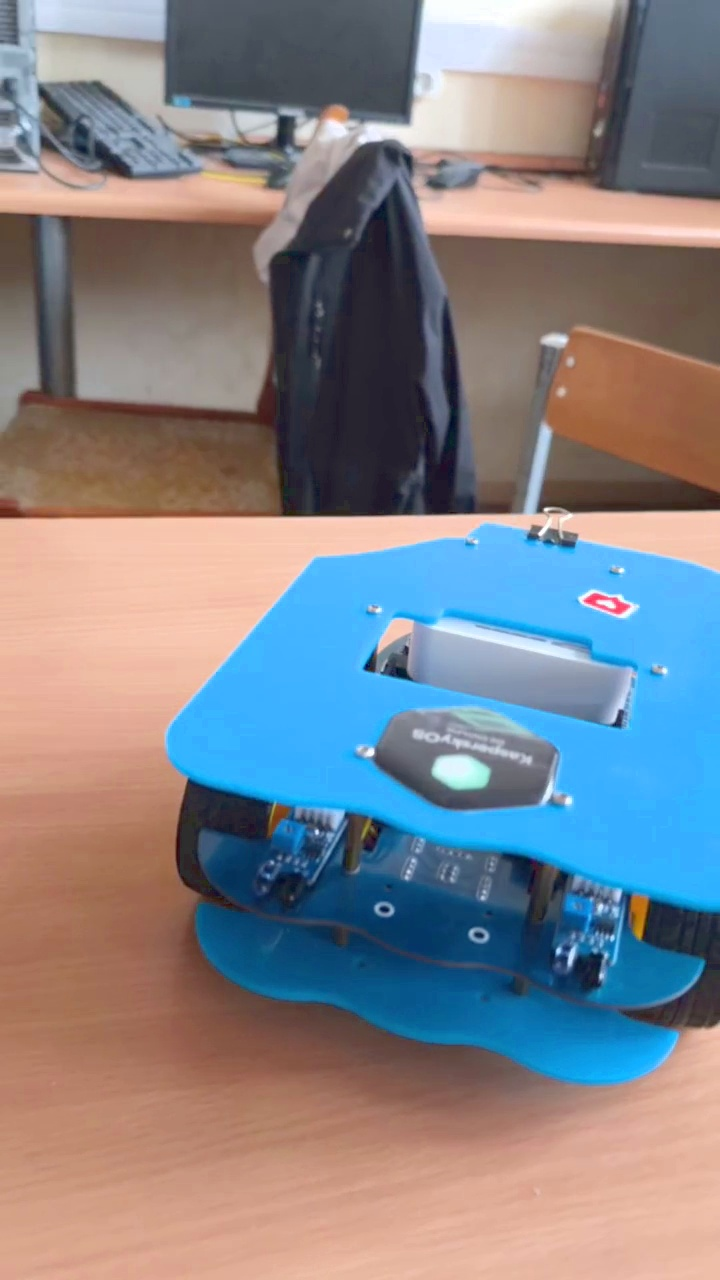robot: (165, 507, 720, 1088)
